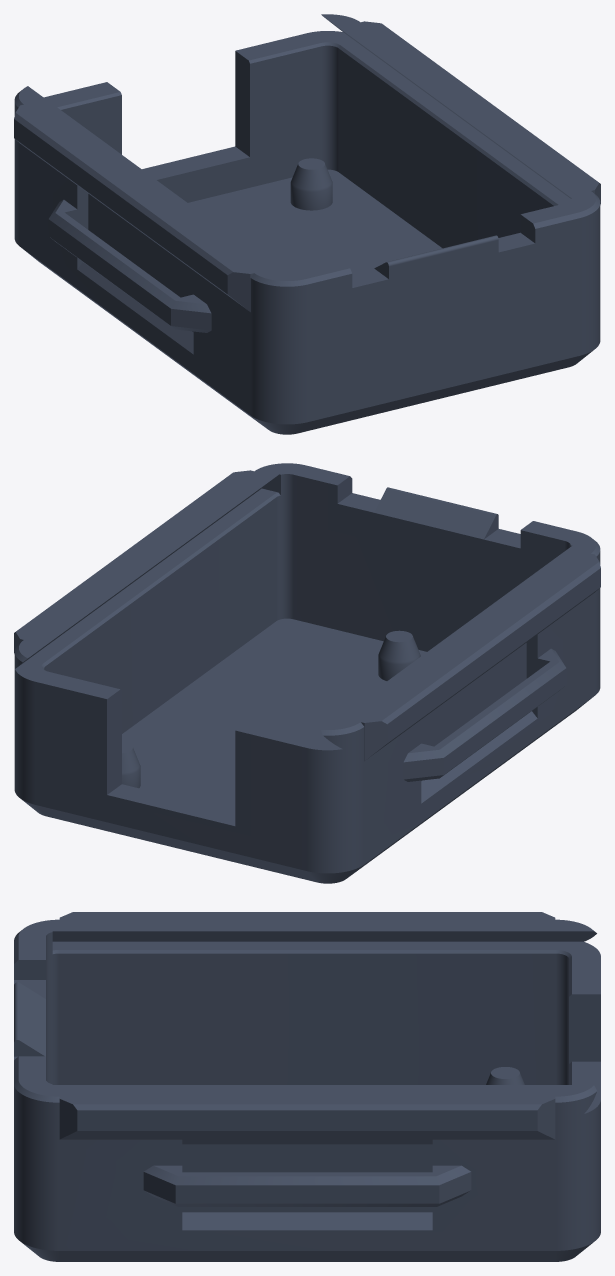
The model's file is shell.glb.
3 views of the same model, one above another, from view 1: azimuth 30°, elevation 25°; view 2: azimuth 150°, elevation 25°; view 3: azimuth 270°, elevation 25° (orthographic). The views are drawn at different scales.
Parts seen in each view (by area): view 1: Shell; view 2: Shell; view 3: Shell.
Boxes of the visible parts, box(x1,y1,x2,y2) form: Shell: box(14, 14, 600, 434); Shell: box(14, 463, 600, 883); Shell: box(14, 912, 600, 1261).
Bounding box in the file's own units: 0.0216 × 0.00839 × 0.0258.
